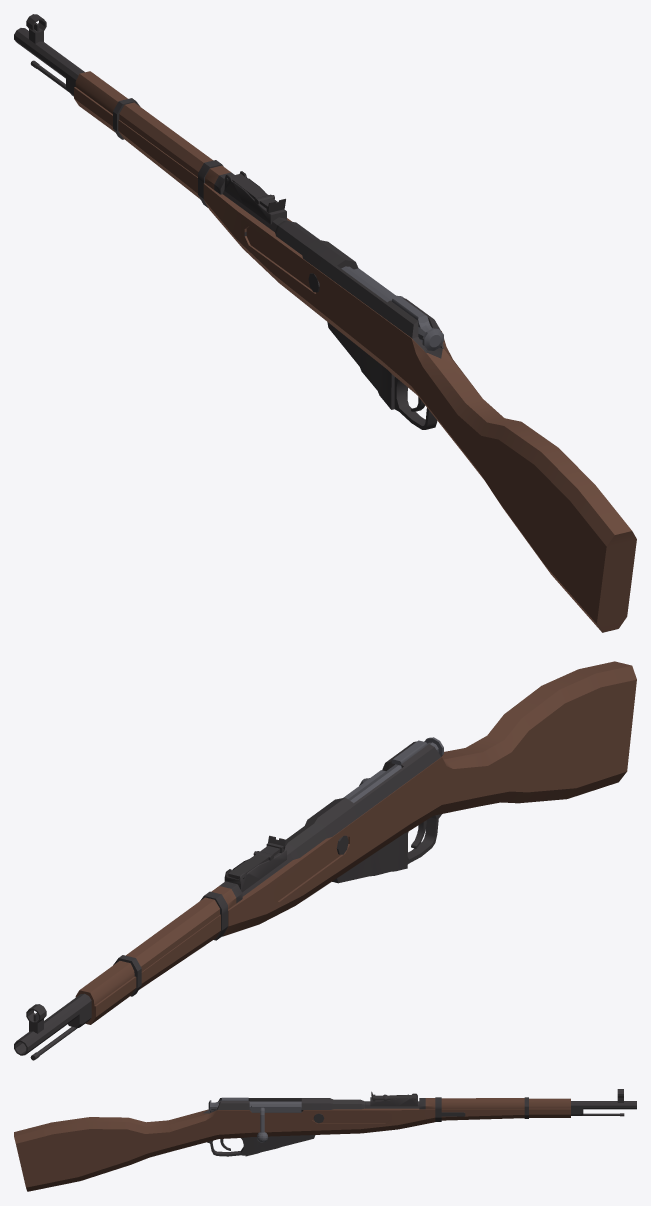
File: low_poly_mosin_carbine.glb
The picture shows the model from 3 angles, top to bottom: view 1: azimuth 30°, elevation 25°; view 2: azimuth 150°, elevation 25°; view 3: azimuth 270°, elevation 25°; orthographic projection. The views are drawn at different scales.
Parts seen in each view (by area): view 1: Body_Carbine, Reciever, Trigger_Guard_Magazine, Barrel_Carbine, Bolt_back, Sight_Mount; view 2: Body_Carbine, Reciever, Barrel_Carbine, Trigger_Guard_Magazine, Sight_Mount, Sight, Bolt; view 3: Body_Carbine, Reciever, Trigger_Guard_Magazine, Barrel_Carbine, Bolt, Sight_Mount, Sight, Bolt_back, Receiver_Barrel.
Part boxes in pixels (x1=…): Body_Carbine: x1=74, y1=71, x2=636, y2=632; Reciever: x1=275, y1=221, x2=443, y2=358; Trigger_Guard_Magazine: x1=327, y1=322, x2=437, y2=429; Barrel_Carbine: x1=14, y1=14, x2=84, y2=96; Bolt_back: x1=391, y1=296, x2=443, y2=350; Sight_Mount: x1=224, y1=171, x2=286, y2=224; Body_Carbine: x1=75, y1=661, x2=636, y2=1024; Reciever: x1=285, y1=741, x2=441, y2=859; Barrel_Carbine: x1=14, y1=993, x2=91, y2=1060; Trigger_Guard_Magazine: x1=332, y1=814, x2=441, y2=883; Sight_Mount: x1=224, y1=850, x2=286, y2=892; Sight: x1=228, y1=835, x2=285, y2=879; Bolt: x1=343, y1=764, x2=401, y2=802; Body_Carbine: x1=14, y1=1097, x2=570, y2=1191; Reciever: x1=203, y1=1098, x2=364, y2=1113; Trigger_Guard_Magazine: x1=207, y1=1135, x2=315, y2=1156; Barrel_Carbine: x1=571, y1=1089, x2=636, y2=1116; Bolt: x1=249, y1=1101, x2=301, y2=1142; Sight_Mount: x1=370, y1=1093, x2=417, y2=1106; Sight: x1=371, y1=1091, x2=416, y2=1101; Bolt_back: x1=208, y1=1097, x2=248, y2=1112; Receiver_Barrel: x1=365, y1=1101, x2=419, y2=1108.
Bounding box in the file's own units: 0.0173 × 0.0612 × 0.344.
2 materials, 2 textured.
